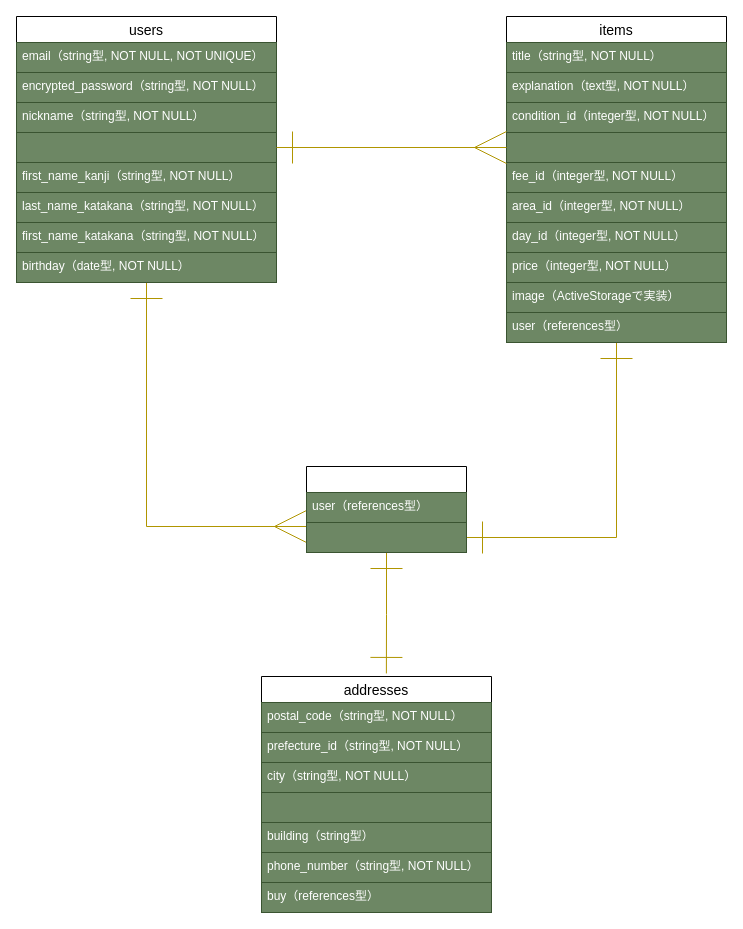
Image size: 743x929. Some labels were removed from this diagram. Each missing label, with the box of its shape:
buys: (306, 466, 466, 552)
category_id（integer型, NOT NULL）: (506, 132, 726, 162)
house_number（string型, NOT NULL）: (260, 792, 492, 822)
item（references型）: (306, 522, 466, 552)
last_name_kanji（string型, NOT NULL）: (16, 132, 276, 162)
